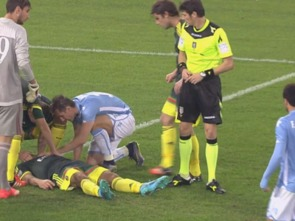fall: (10, 142, 183, 200)
